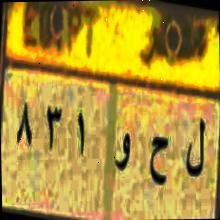1: (72, 106, 90, 168)
3: (42, 97, 64, 158)
7aa: (147, 125, 174, 196)
8: (13, 95, 34, 156)
laam: (184, 111, 206, 188)
waw: (114, 128, 131, 176)
